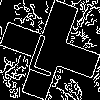L: (25, 25, 67, 77)
